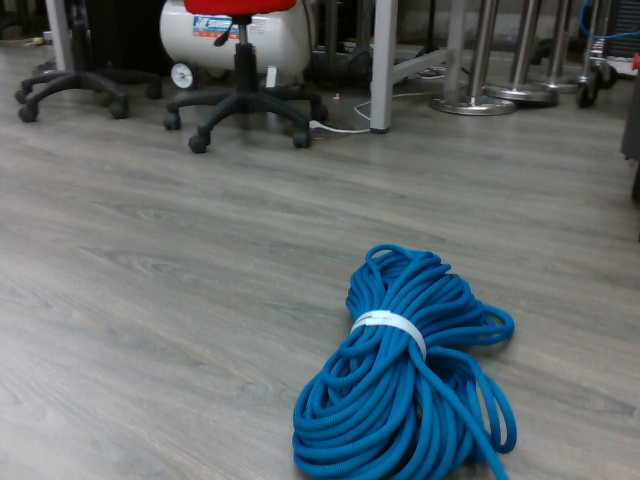rope: (284, 237, 520, 480)
